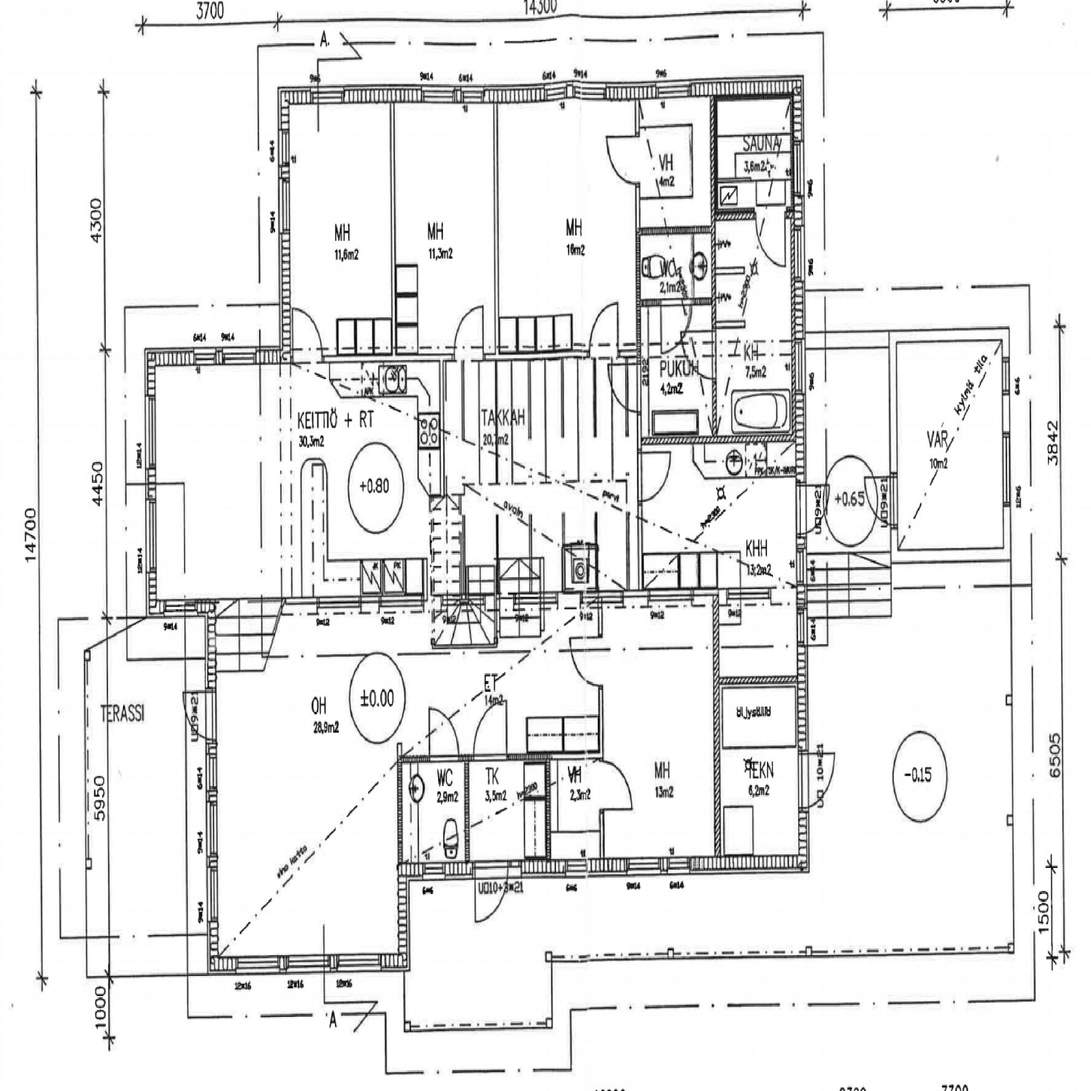wall: (280, 87, 804, 105), (398, 862, 804, 880), (792, 442, 804, 880), (791, 86, 804, 442), (207, 599, 218, 975), (207, 956, 409, 975), (280, 87, 291, 364), (146, 346, 157, 618), (146, 346, 291, 364), (291, 358, 638, 364), (638, 105, 642, 588), (889, 328, 897, 560), (1002, 328, 1009, 560), (890, 548, 1009, 561), (890, 328, 1009, 341), (146, 599, 218, 618), (714, 589, 719, 862), (398, 862, 410, 975), (402, 754, 603, 760), (392, 105, 396, 358), (285, 599, 427, 606), (642, 436, 804, 442), (712, 209, 716, 436), (712, 209, 791, 220), (712, 87, 719, 209), (496, 105, 499, 358), (599, 589, 719, 595), (599, 589, 603, 760), (398, 744, 403, 862), (719, 677, 793, 684), (545, 760, 550, 862), (726, 588, 770, 599), (638, 227, 713, 233), (599, 754, 603, 862), (642, 298, 712, 304), (465, 760, 469, 862), (440, 364, 443, 496), (423, 563, 427, 606), (719, 588, 726, 605)
